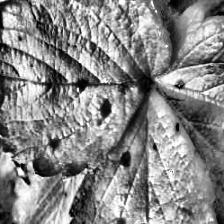Leaf Spot: (0, 0, 172, 181), (63, 84, 222, 224), (151, 2, 224, 224), (9, 168, 85, 224), (0, 182, 21, 224), (136, 0, 179, 13)
